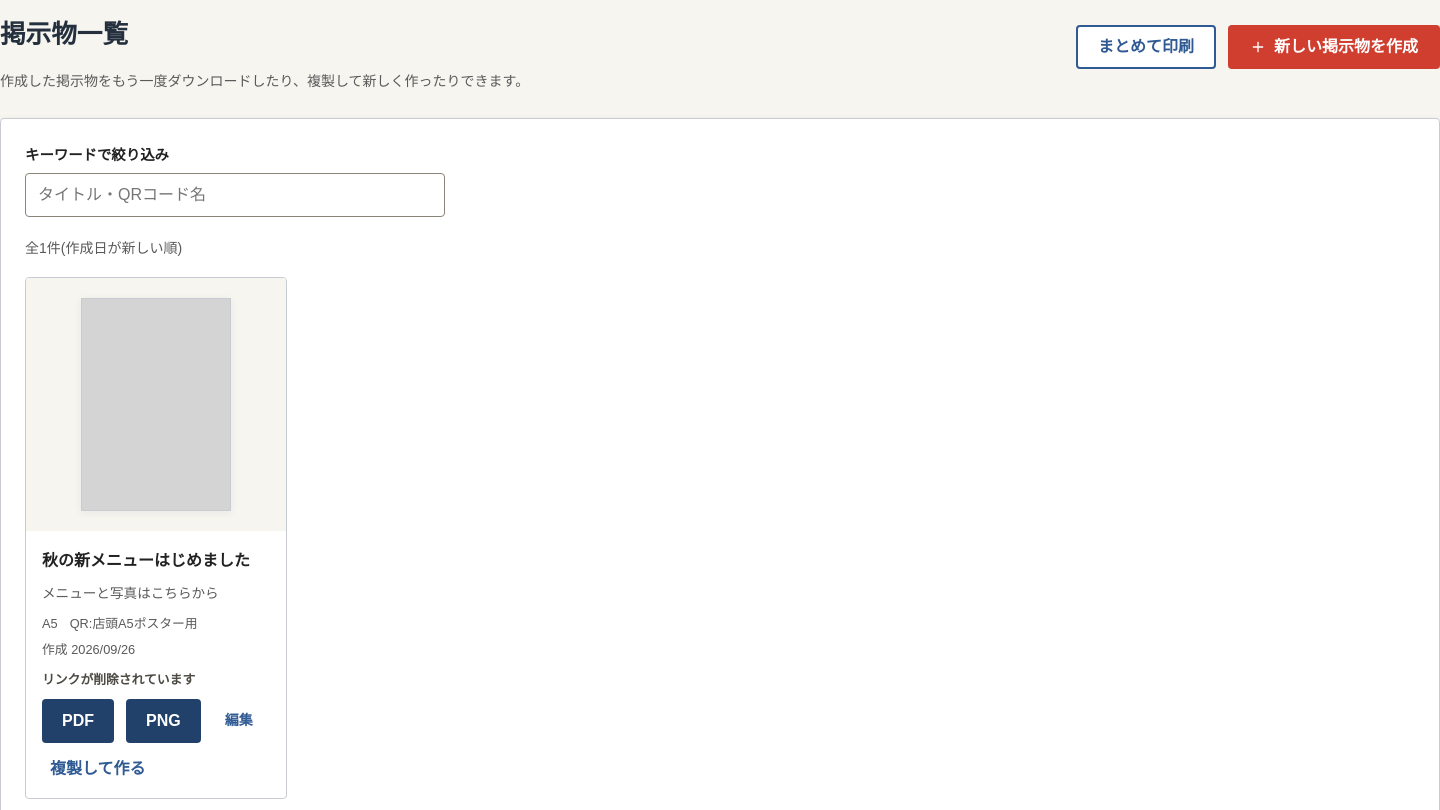
Test: PosterListPage › リンクまたはQRコードが削除された掲示物は、再開の導線なしの確認ダイアログを出す
Expected: the text "リンクが削除されています" is shown, top-left (42, 672), bottom-right (195, 687)
Click the button with aria-label "秋の新メニューはじめましたをPDFでダウンロード" at (78, 721), box top-left (42, 699), bottom-right (114, 743)
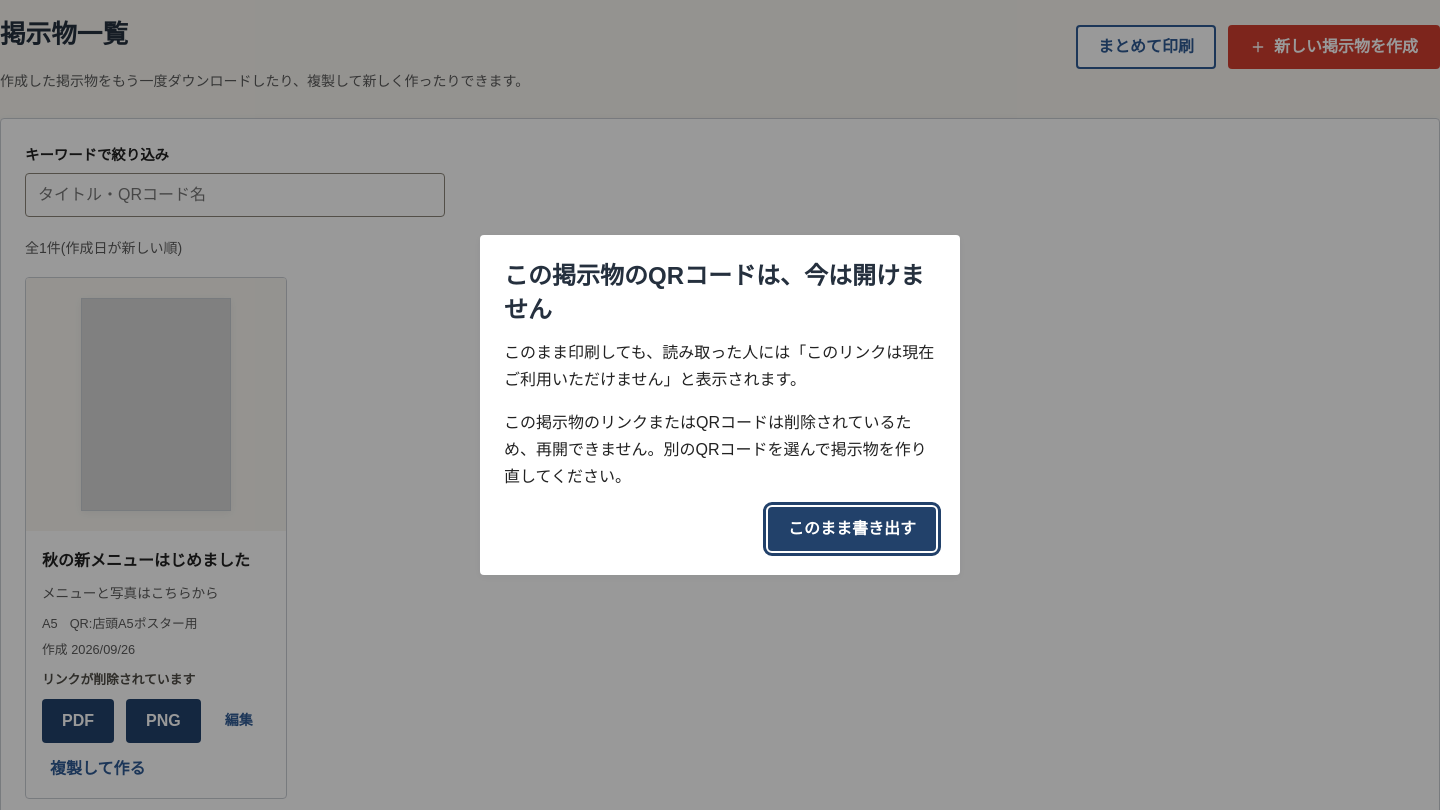
Expected: the button "このまま書き出す" is shown, top-left (768, 507), bottom-right (936, 551)
